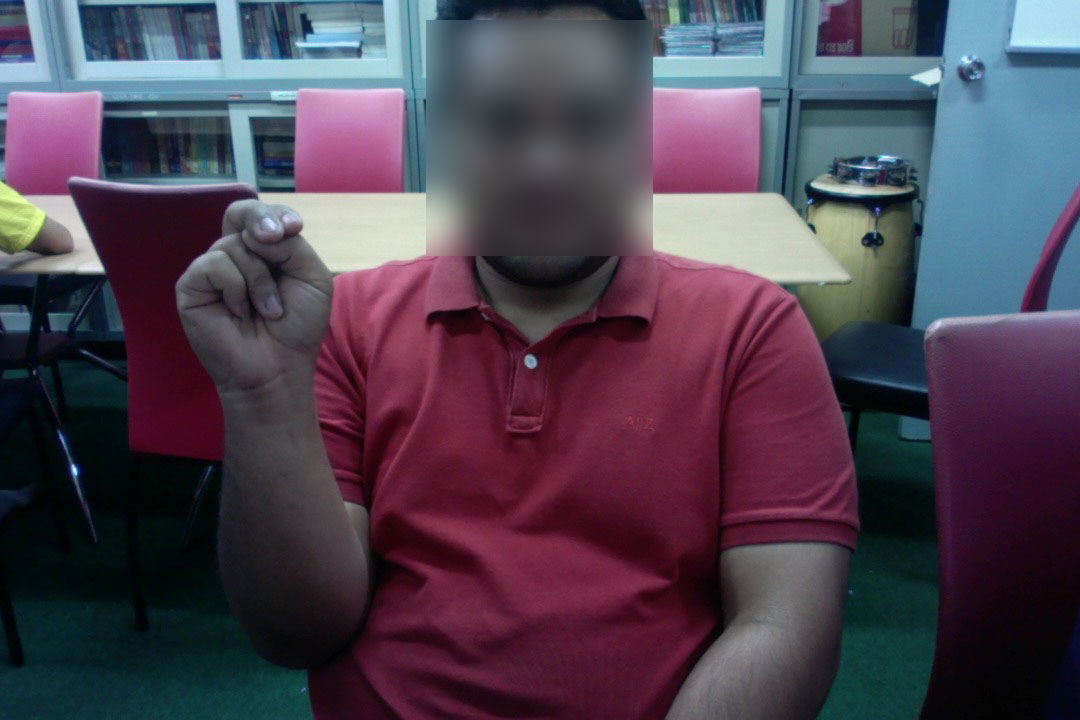nor: (168, 189, 336, 402)
